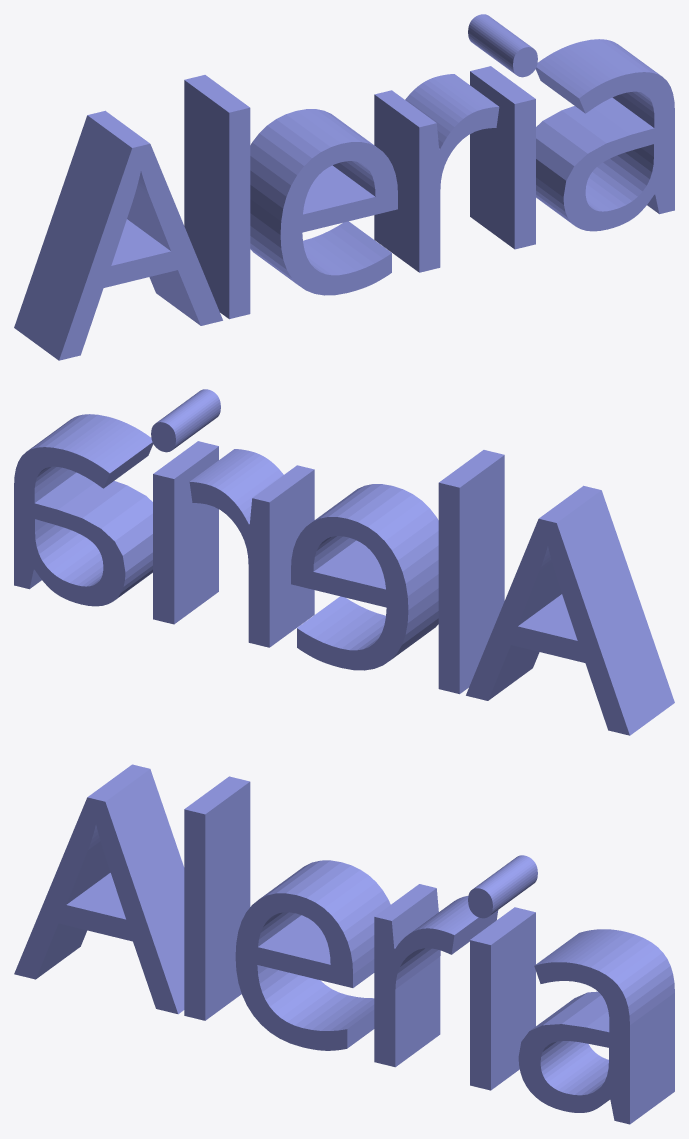
Rendered from AleTest2.glb.
3 views of the same model, one above another, from view 1: azimuth 30°, elevation 25°; view 2: azimuth 150°, elevation 25°; view 3: azimuth 330°, elevation 25° (orthographic).
Parts seen in each view (by area): view 1: 3D Text - A, 3D Text - a, 3D Text - e, 3D Text - l, 3D Text - r, 3D Text - i; view 2: 3D Text - A, 3D Text - a, 3D Text - e, 3D Text - l, 3D Text - r, 3D Text - i; view 3: 3D Text - A, 3D Text - a, 3D Text - e, 3D Text - l, 3D Text - i, 3D Text - r.
Part boxes in pixels (x1,y1,x2,y2): 3D Text - A: (14, 110, 222, 360); 3D Text - a: (535, 39, 674, 231); 3D Text - e: (250, 109, 397, 295); 3D Text - l: (184, 75, 250, 319); 3D Text - r: (374, 74, 499, 272); 3D Text - i: (468, 14, 537, 249); 3D Text - A: (466, 485, 674, 735); 3D Text - a: (14, 414, 153, 606); 3D Text - e: (291, 484, 438, 670); 3D Text - l: (438, 450, 504, 694); 3D Text - r: (189, 449, 314, 647); 3D Text - i: (151, 389, 220, 624); 3D Text - A: (14, 764, 184, 1014); 3D Text - a: (518, 929, 674, 1124); 3D Text - e: (235, 860, 390, 1050); 3D Text - l: (184, 776, 250, 1020); 3D Text - i: (468, 855, 537, 1090); 3D Text - r: (374, 884, 498, 1067).
Size of the model in its own units: 0.1186 by 0.0385 by 0.015.
